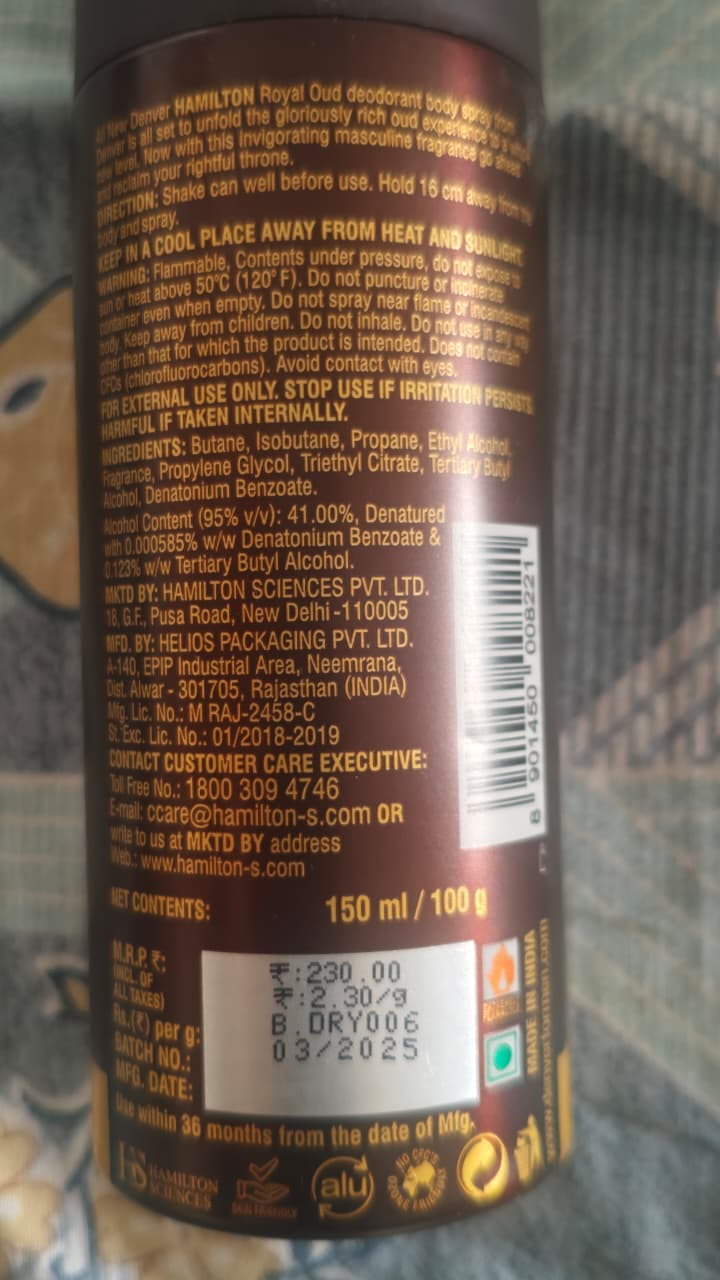EXP_Date: (120, 1088, 489, 1154)
Ingredients: (84, 402, 559, 579)
MFG_Date: (263, 1038, 441, 1068)
MRP: (254, 954, 416, 990)
